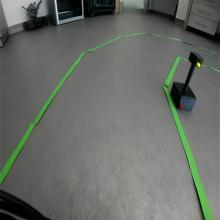green: (188, 51, 204, 69)
